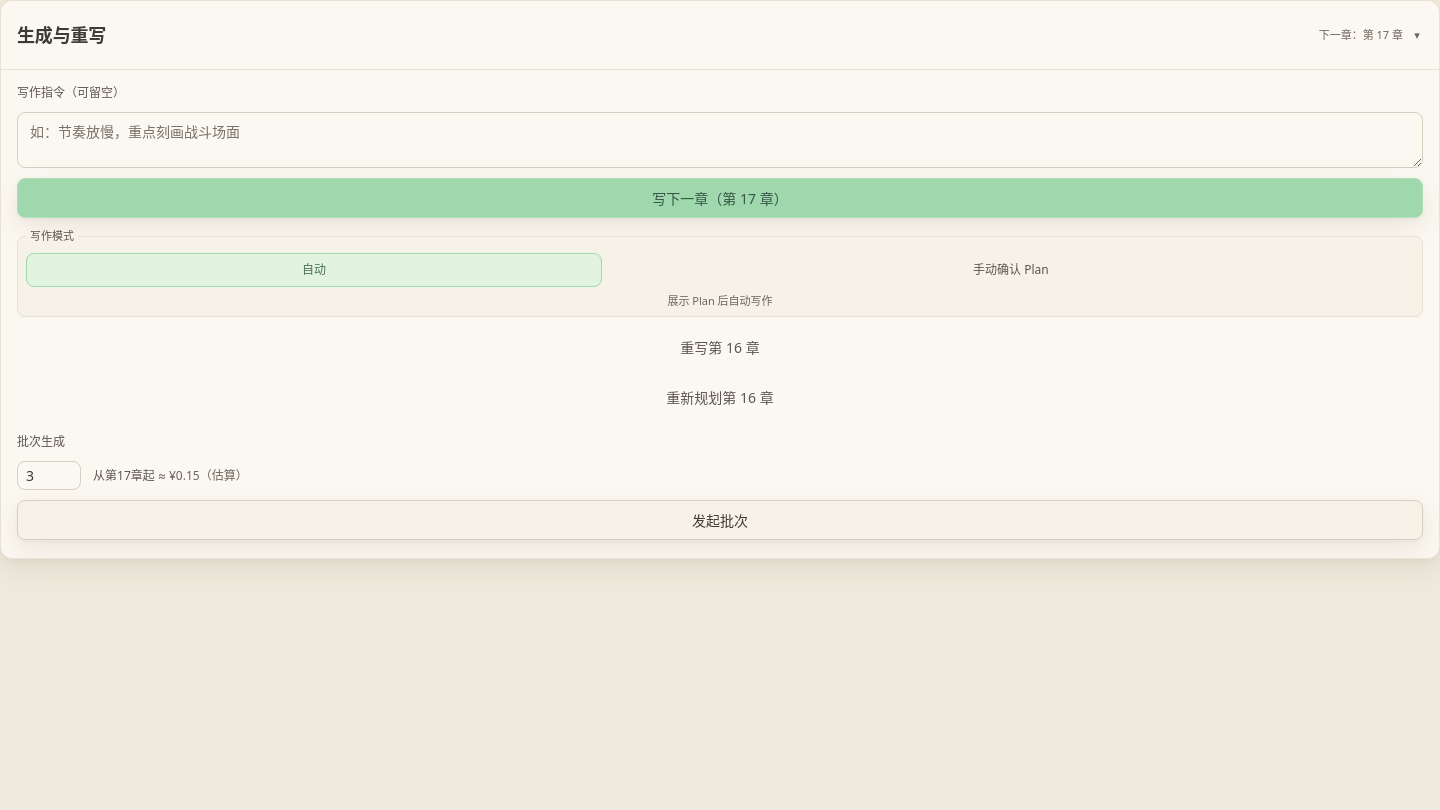
Test: passes the optional writing instruction and exposes a request error
This screenshot has width=1440, height=810.
Type "承接上一章结尾" into the text box labelled "写作指令（可留空）".
click(720, 140); type("承接上一章结尾")  # box x1=17 y1=112 x2=1423 y2=168
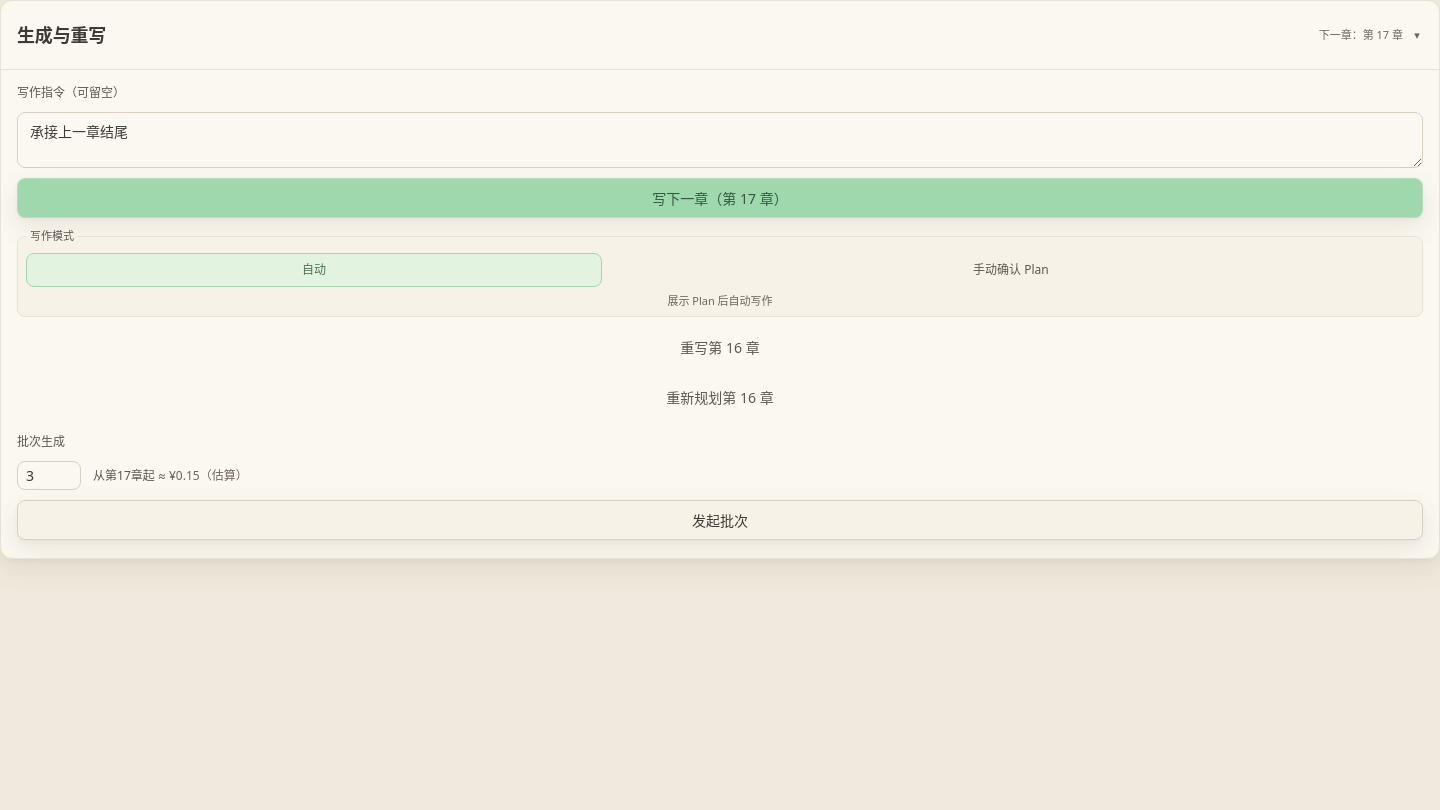
Click the button "写下一章（第 17 章）".
click(720, 198)  # box x1=17 y1=178 x2=1423 y2=218
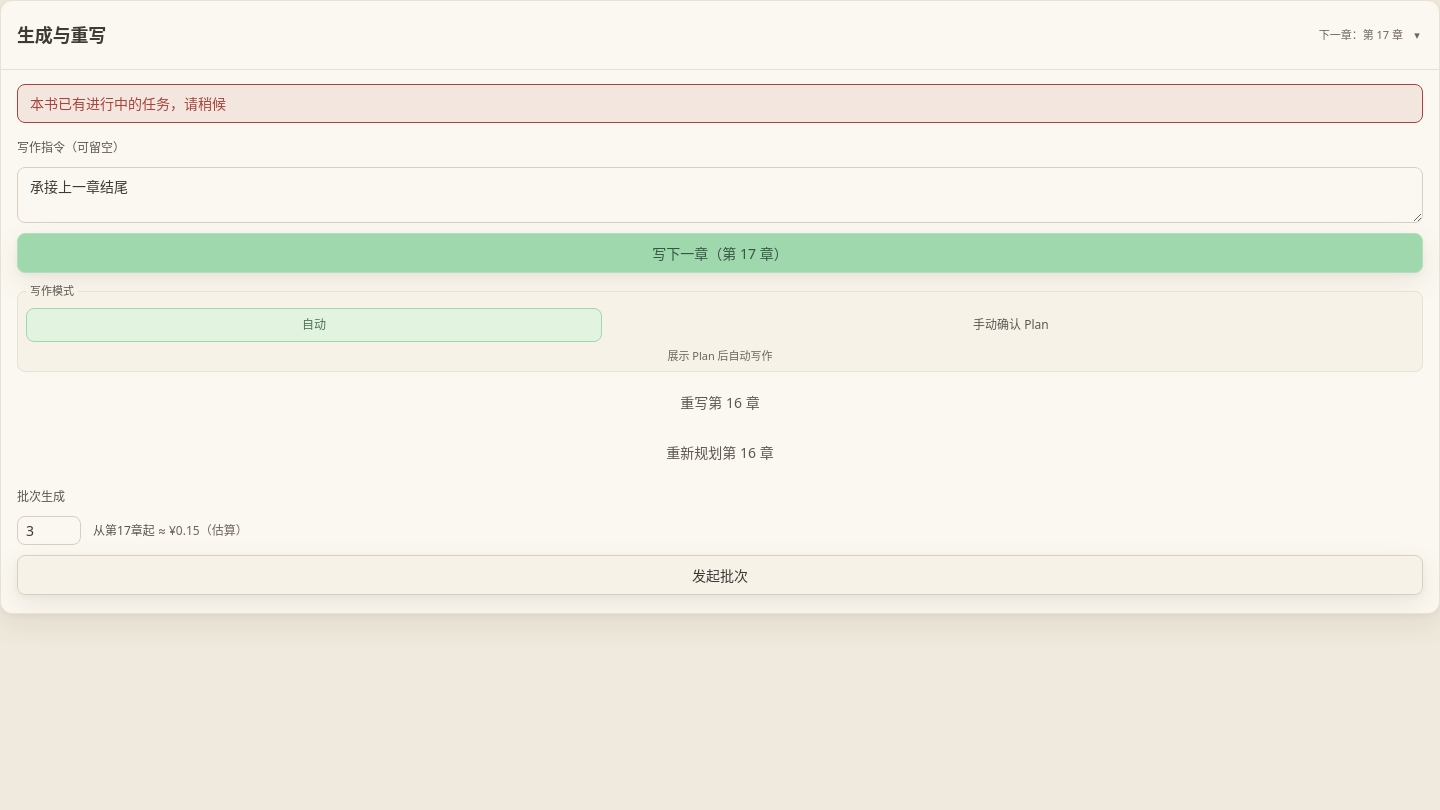
Expected: the message shows "本书已有进行中的任务", x1=30 y1=94 x2=226 y2=113
